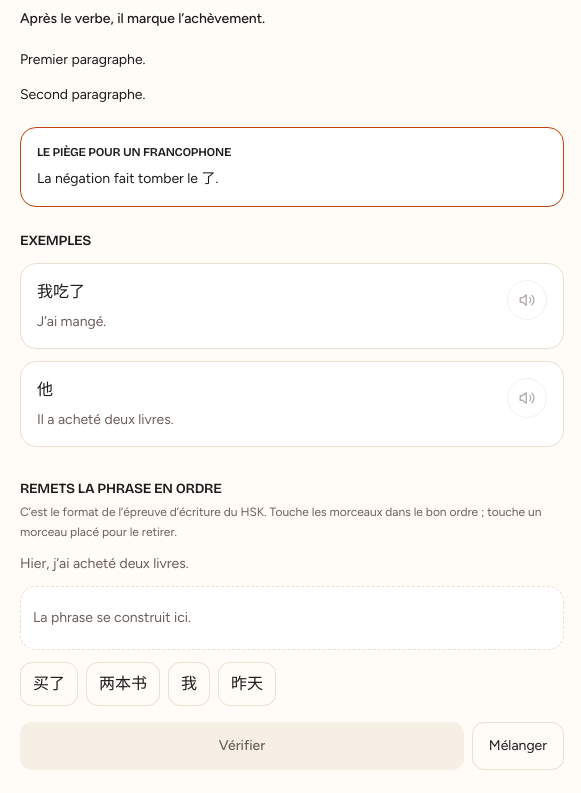
Test: PointScreen › accepte un ordre alternatif déclaré
(page scrolled)
Click the button "昨天": coordinates (247, 684) 218,662 -> 276,706
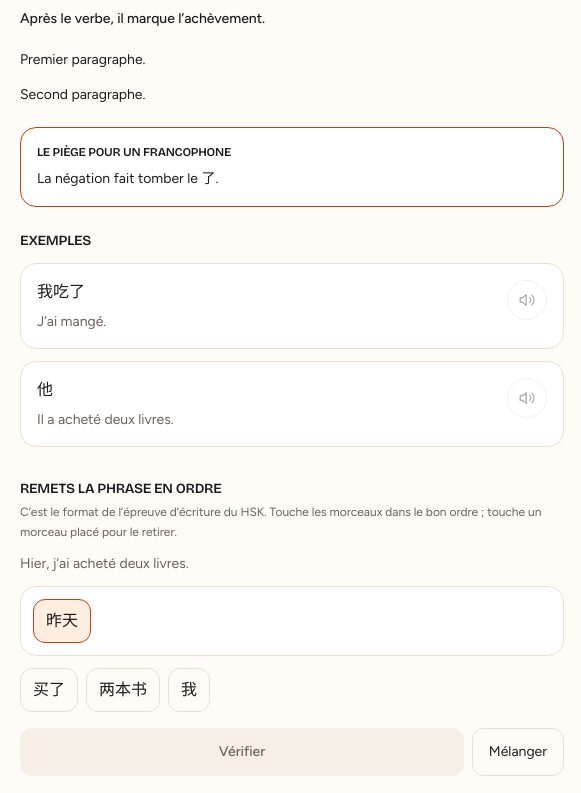
Click the button named "Placer 我": coordinates (189, 690) 168,668 -> 210,712
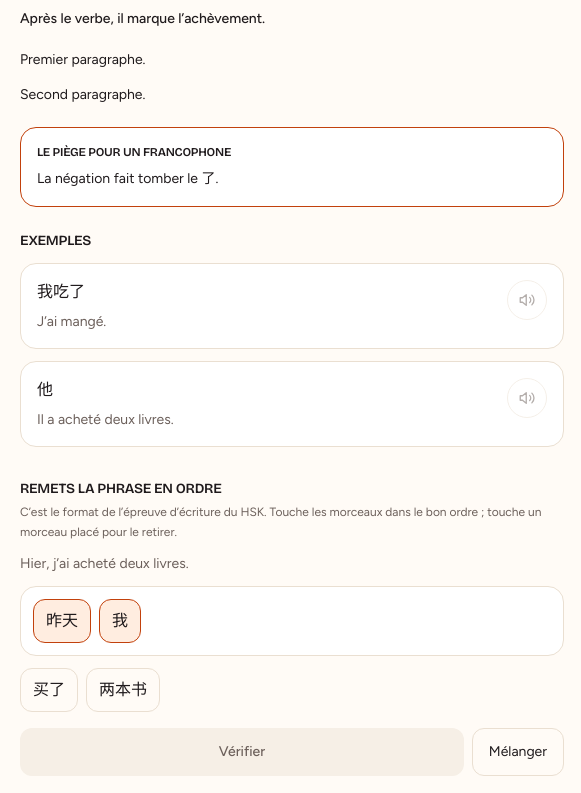
Click the button "买了": coordinates (49, 690) 20,668 -> 78,712
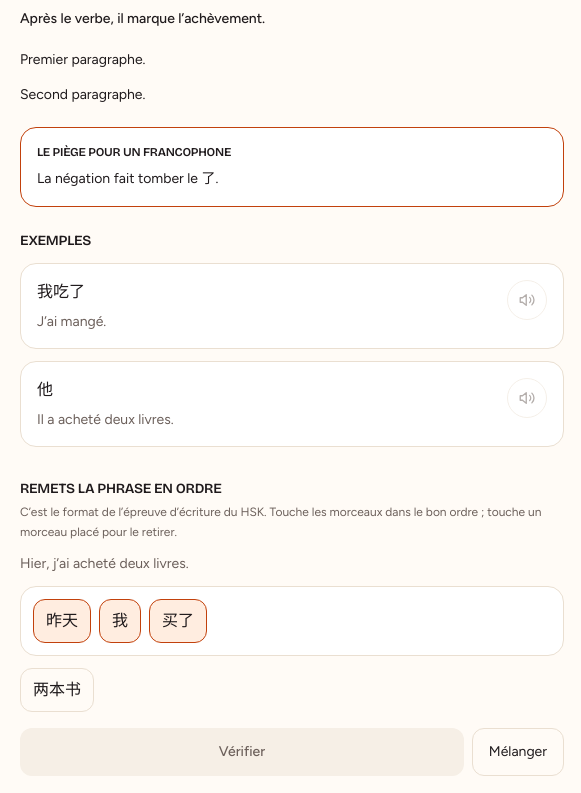
Click the button "两本书": coordinates (57, 690) 20,668 -> 94,712
(page scrolled)
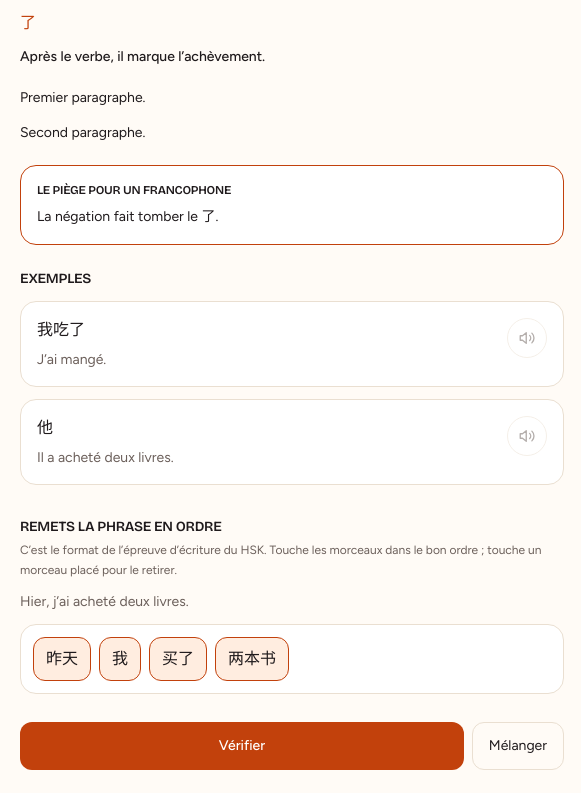
Click the button "Vérifier": coordinates (242, 746) 20,722 -> 464,770
(page scrolled)
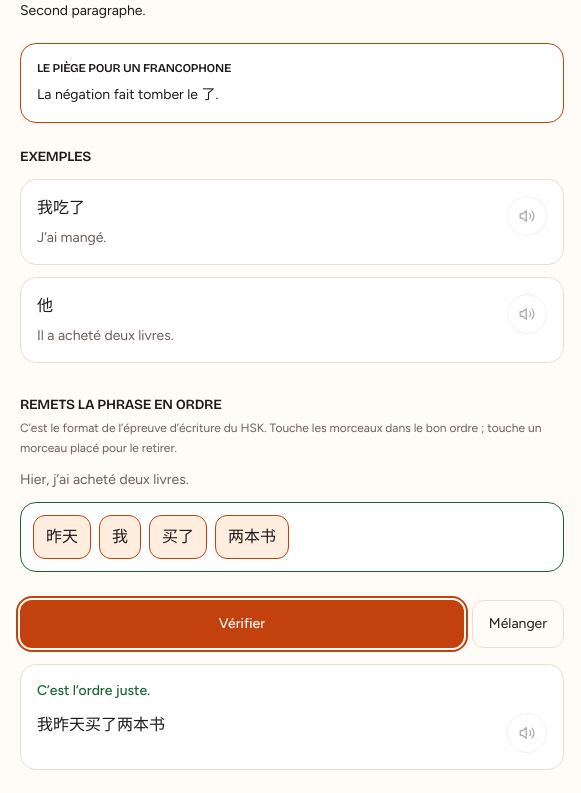
Expected: the text "C’est l’ordre juste." is shown, 37,682 -> 150,699
